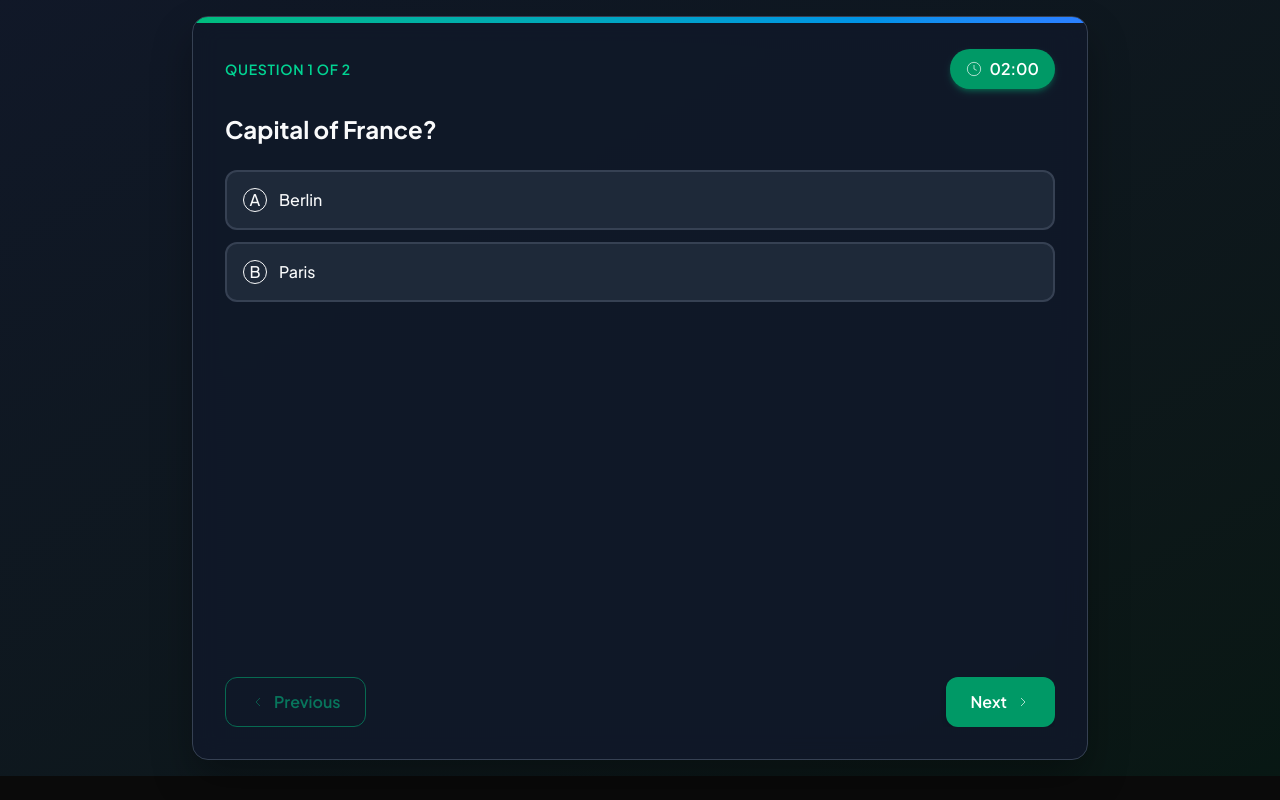
Test: QuizPlayer › shows a retry message instead of leaving when saving fails
Click the button "Next": (1001, 702) [946,677,1055,727]
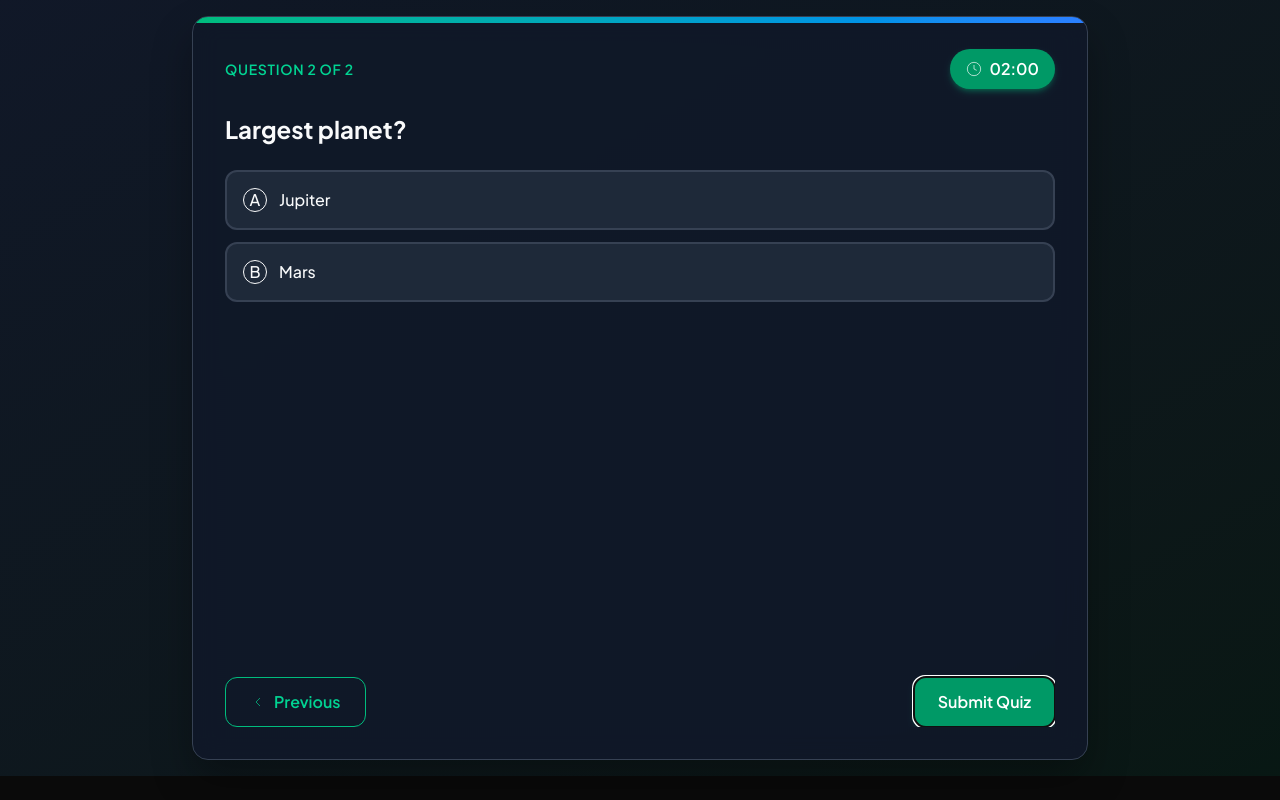
Click the button "Submit Quiz": (984, 702) [914,677,1055,727]
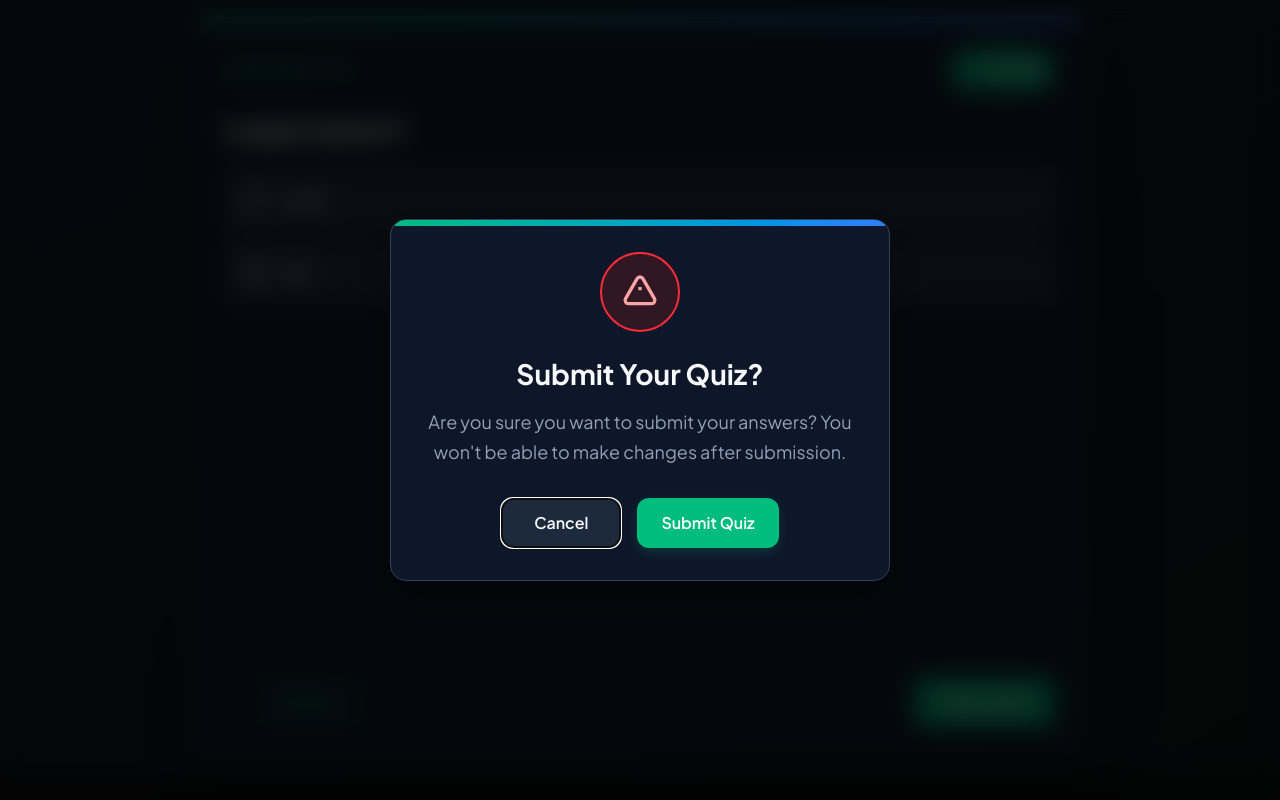
Click the button "Submit Quiz": (708, 523) [637,498,779,548]
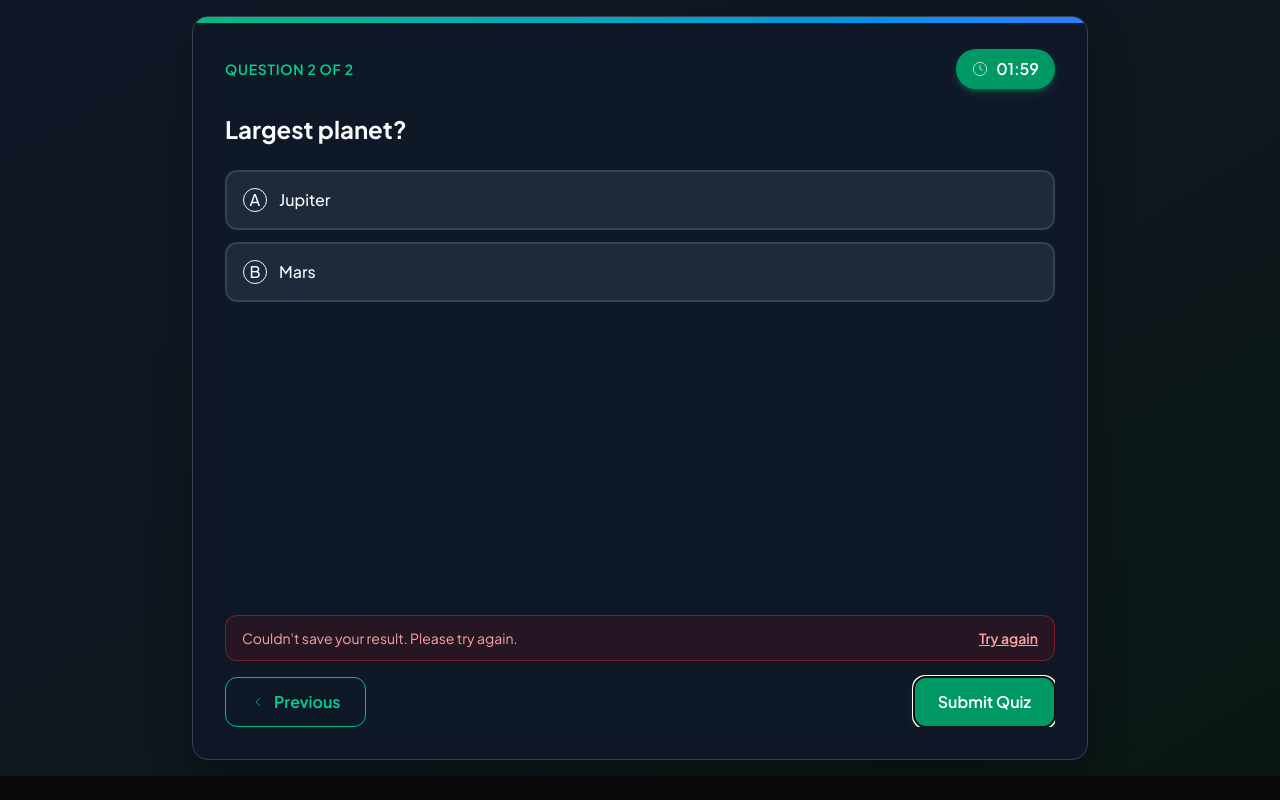
Expected: the message shows "Couldn't save your result", [242,629,517,647]
Expected: the button "Try again" is shown, [979,628,1038,648]
